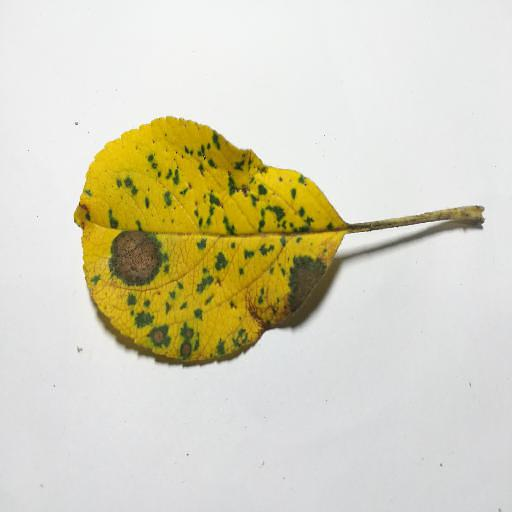Brown_Spot: (105, 231, 164, 278), (285, 257, 321, 311), (244, 302, 275, 334), (182, 327, 198, 356), (146, 321, 164, 342)
